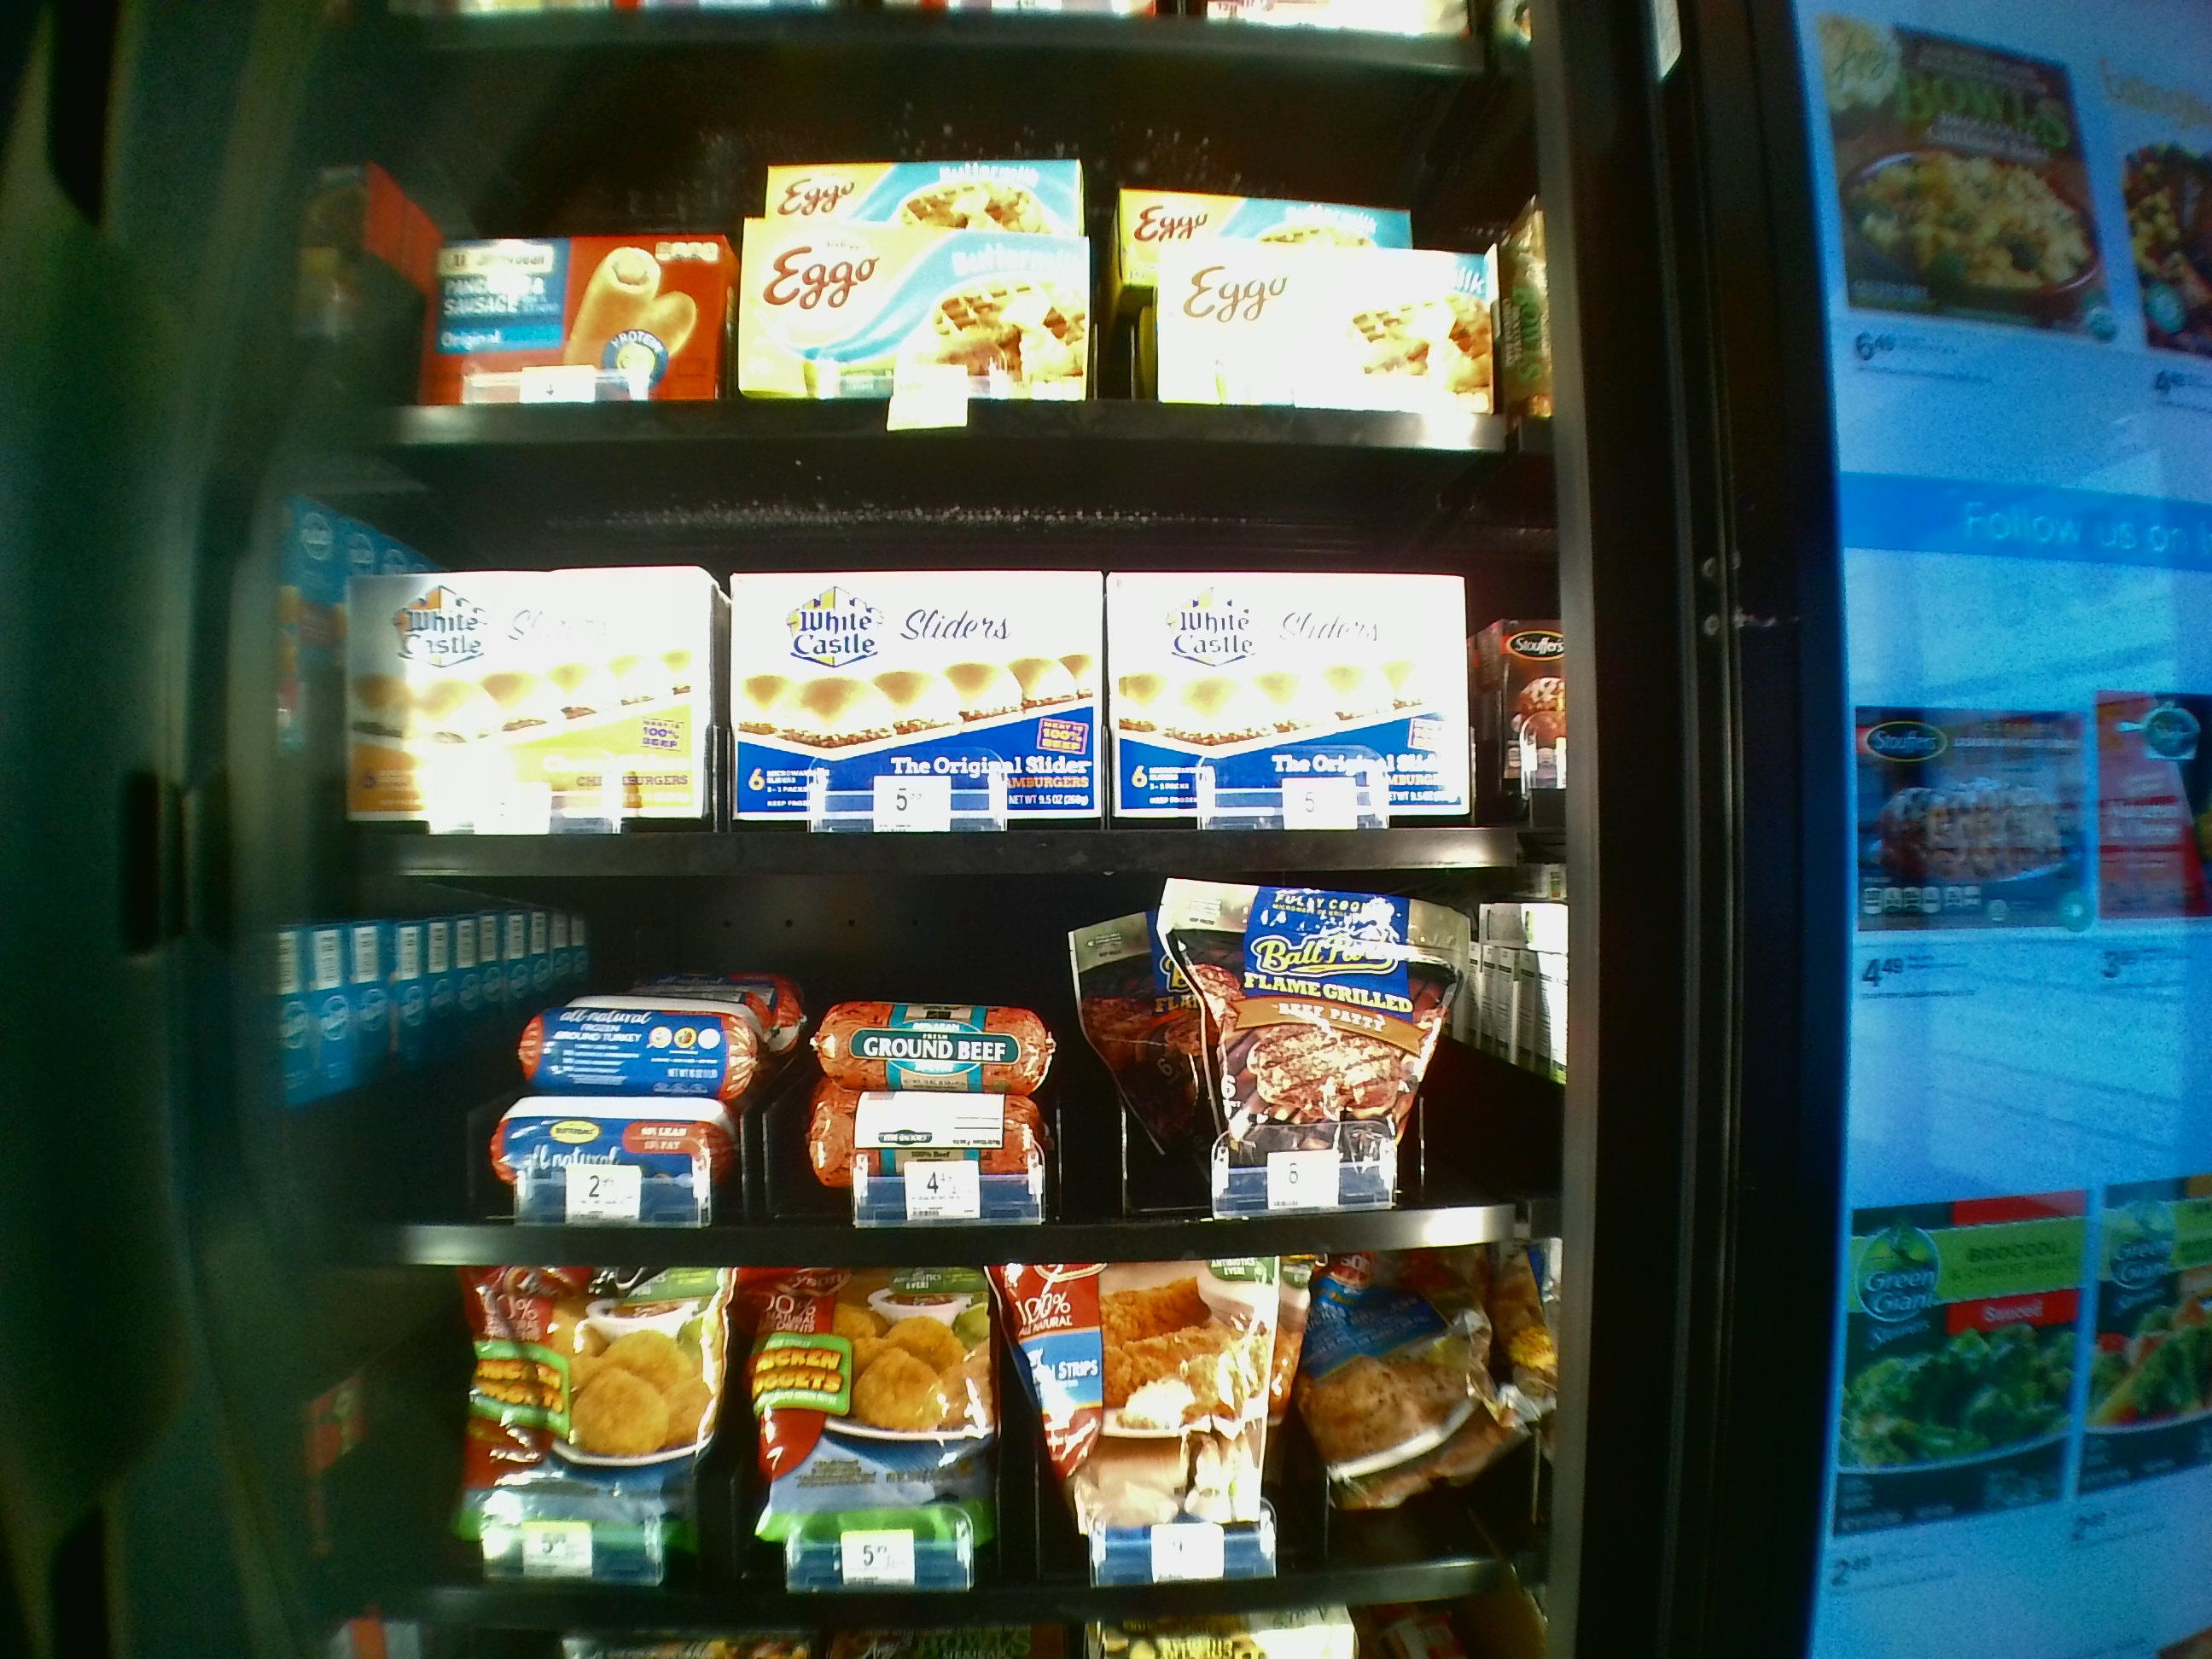shelf: (296, 455, 1550, 878), (291, 889, 1555, 1274)
